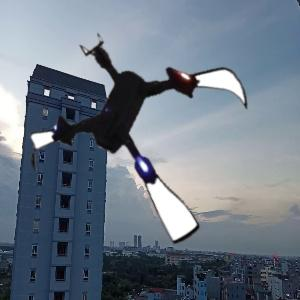drone: (28, 21, 262, 255)
